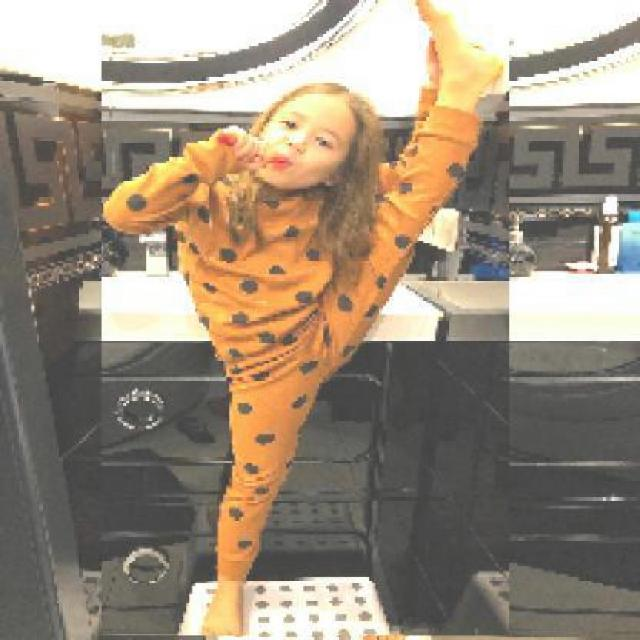child: (100, 0, 509, 637)
